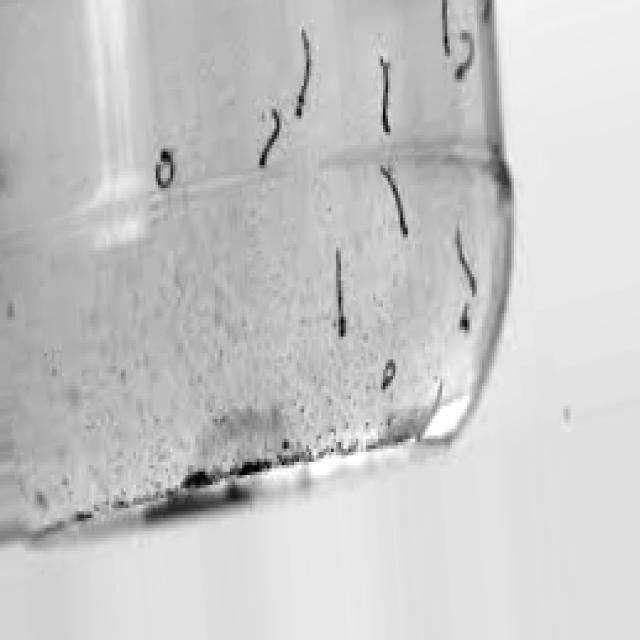larvas: (377, 161, 416, 243), (255, 103, 286, 170), (457, 228, 477, 293), (454, 30, 476, 81), (297, 31, 309, 118), (382, 59, 393, 134), (336, 255, 346, 336), (155, 150, 174, 188), (442, 1, 449, 53), (382, 363, 396, 388), (459, 304, 472, 330)
